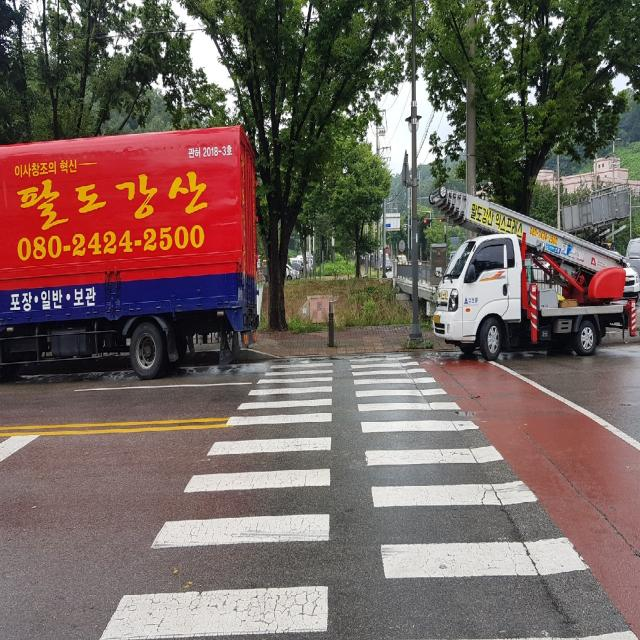횡단보도: (93, 350, 640, 639)
